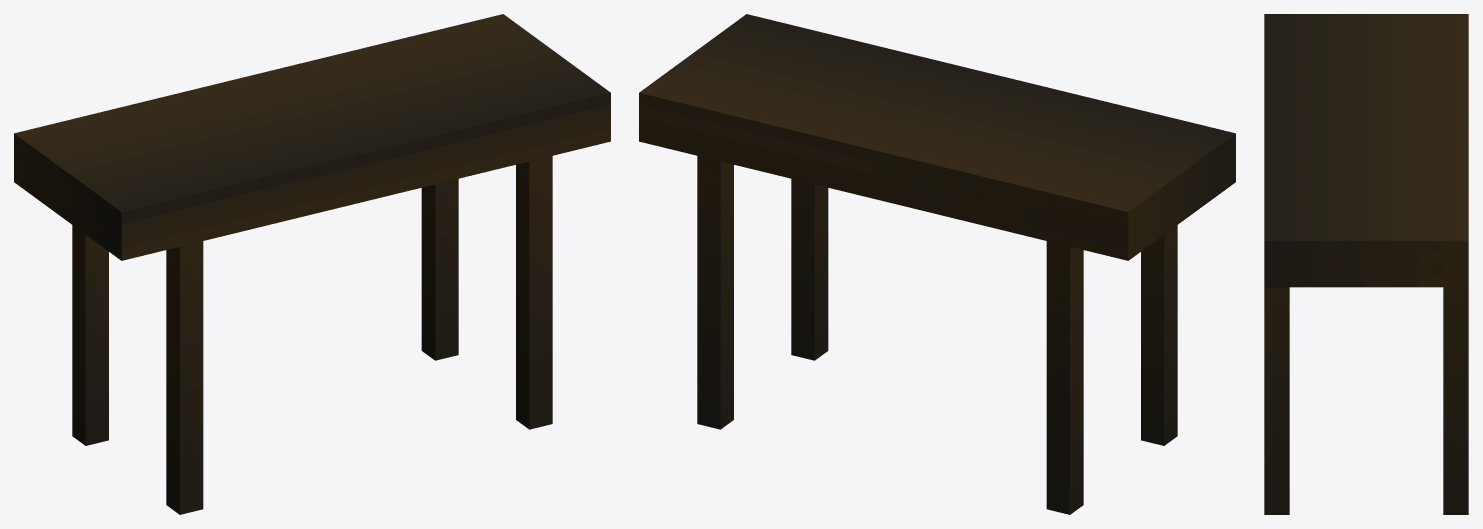
Rendered from desk.gltf.
3 renders of one model, left to right at view 1: azimuth 30°, elevation 25°; view 2: azimuth 150°, elevation 25°; view 3: azimuth 270°, elevation 25°, orthographic. The views are drawn at different scales.
Parts seen in each view (by area): view 1: cuboid (×5); view 2: cuboid (×5); view 3: cuboid (×3).
Boxes of the visible parts, left/top/right/bottom form: cuboid (×5): left=14, top=14, right=610, bottom=514; cuboid (×5): left=639, top=14, right=1235, bottom=514; cuboid (×3): left=1264, top=14, right=1468, bottom=514.
Bounding box in the file's own units: 2.62 × 1.62 × 1.
Materials: 1 (1 with a texture image).
